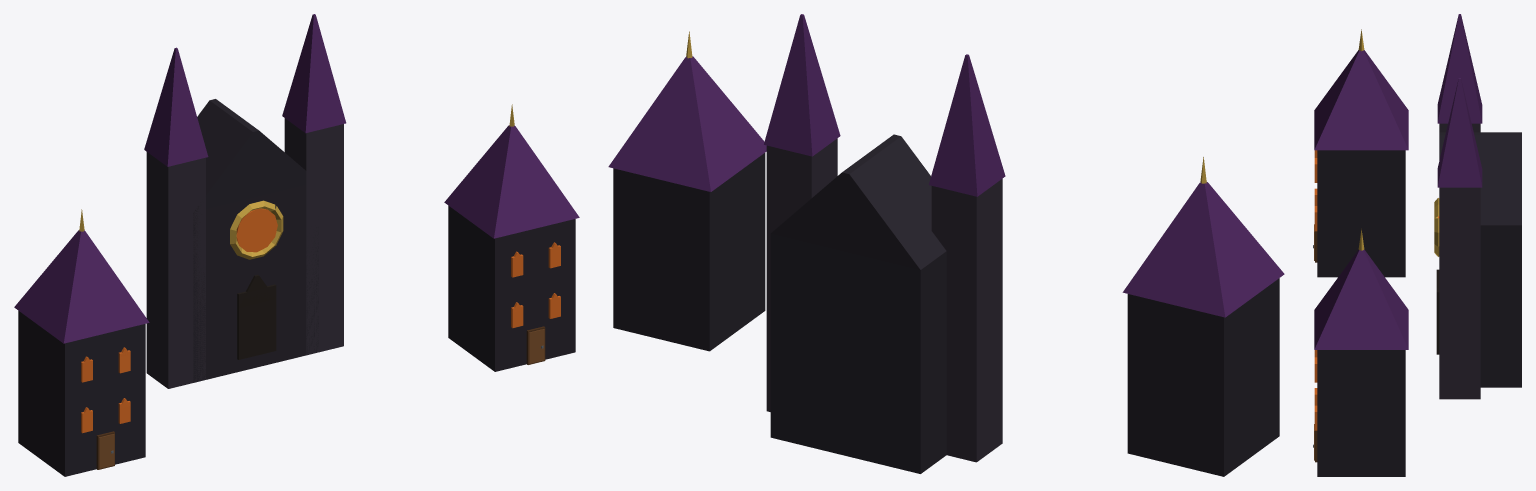
The model's file is demon_court.glb.
The picture shows the model from 3 angles, left to right: view 1: azimuth 30°, elevation 25°; view 2: azimuth 150°, elevation 25°; view 3: azimuth 270°, elevation 25°; orthographic projection. The views are drawn at different scales.
Visible parts, largest first — view 1: demon_court; view 2: demon_court; view 3: demon_court.
Part boxes in pixels (<box>): demon_court: <box>14,14,579,476</box>; demon_court: <box>608,14,1284,476</box>; demon_court: <box>1313,14,1521,476</box>.
Size of the model in its own units: 5.76 by 3.5 by 2.12.
